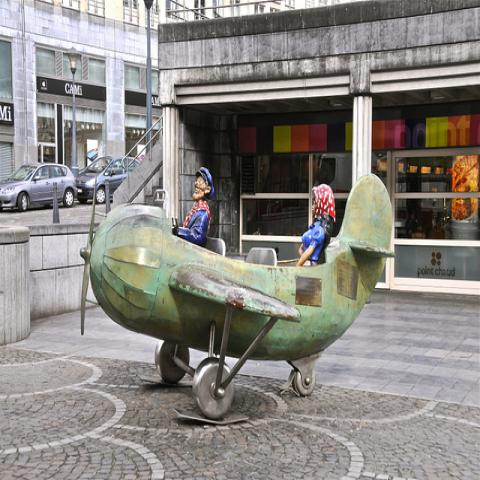car: (0, 164, 80, 210), (77, 156, 127, 203), (120, 157, 140, 178)
